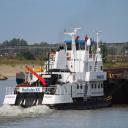tugboat: (2, 28, 114, 113)
